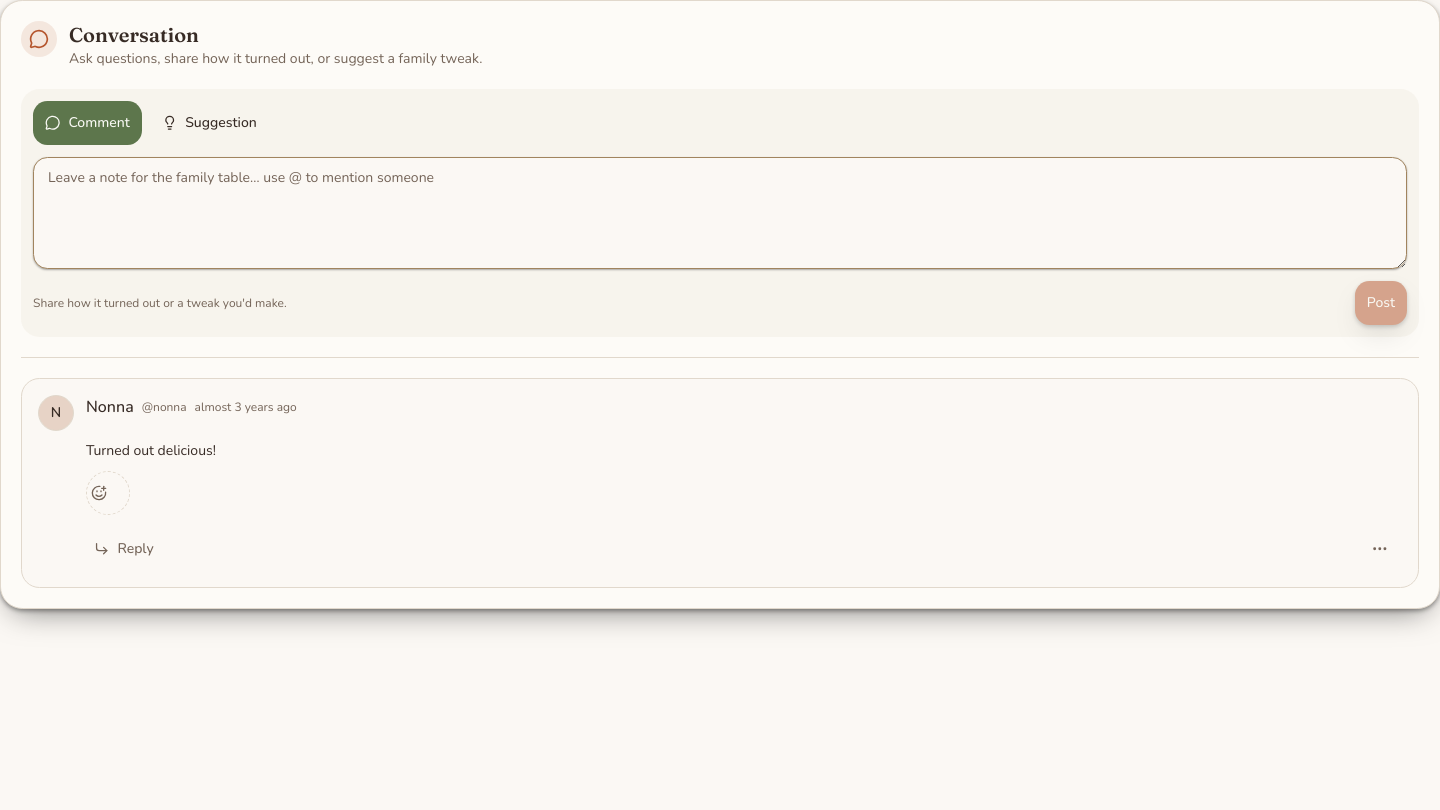
CommentsSection › shows a delete affordance to the comment author
Click the button named "More actions" at point(1380, 549), box [1358,527,1402,571]
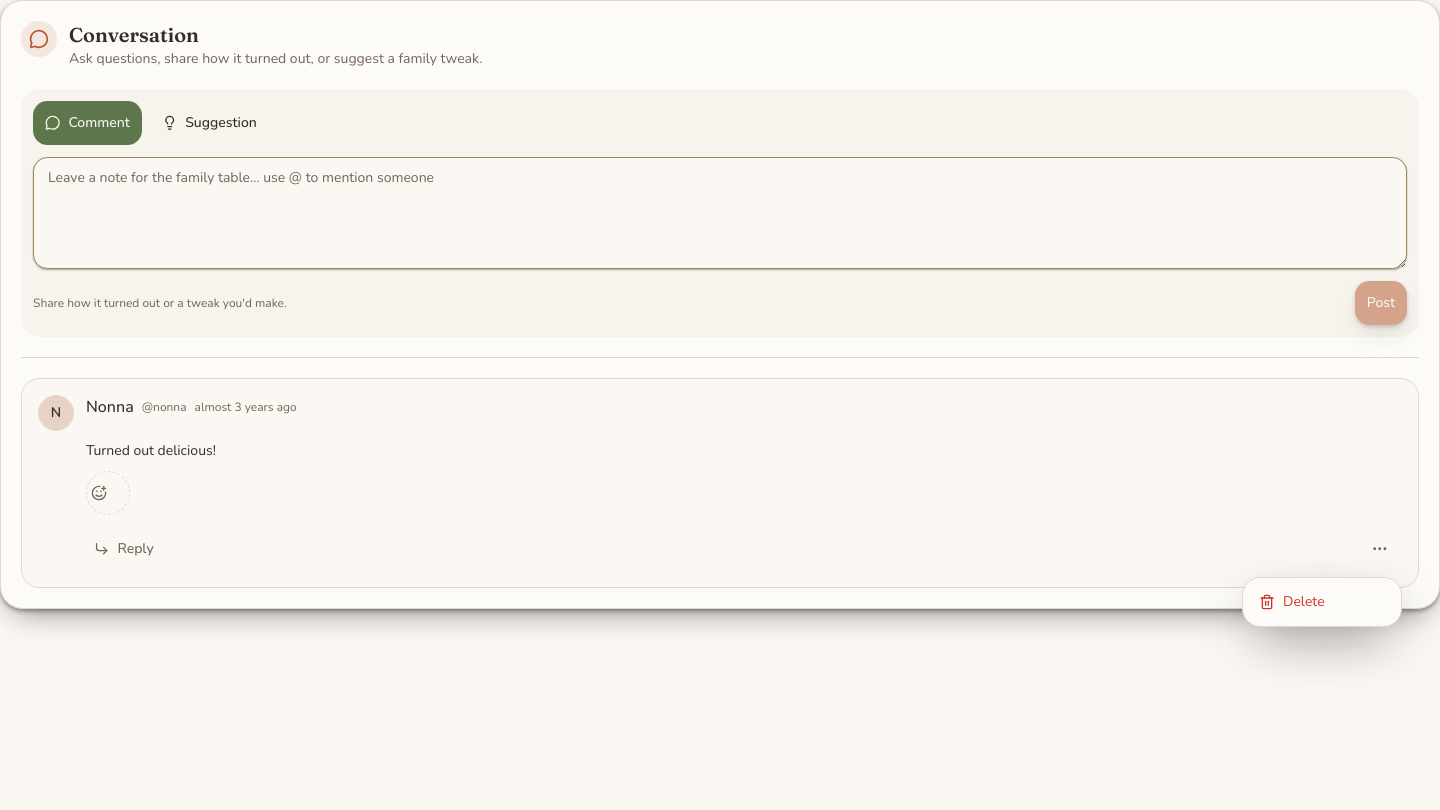
Now the menu item "Delete" is shown, box [1259,592,1325,611]
